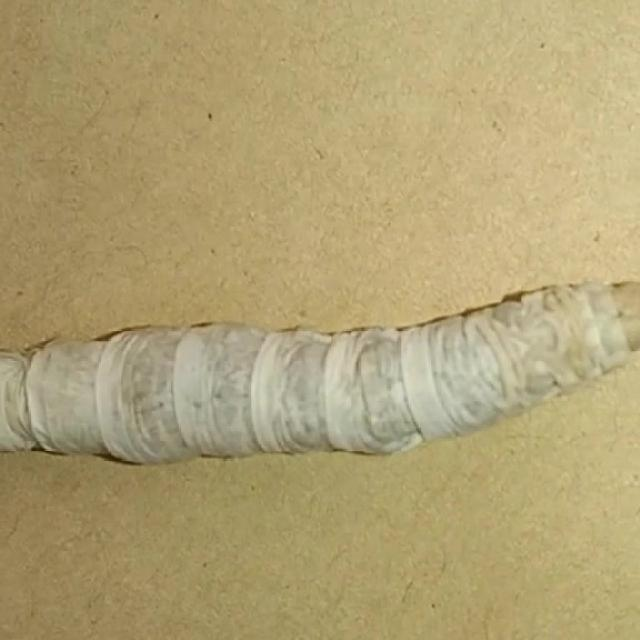Grasserie: (3, 247, 640, 492)
